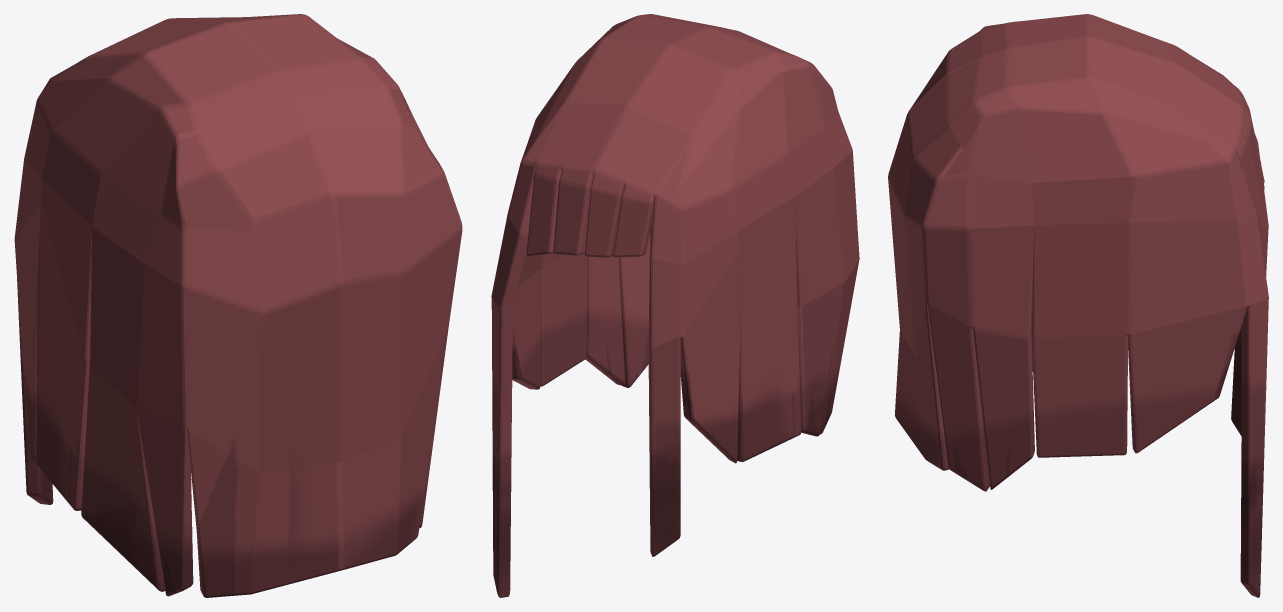
File: hair1.glb
3 views of the same model, side by side, from view 1: azimuth 30°, elevation 25°; view 2: azimuth 150°, elevation 25°; view 3: azimuth 270°, elevation 25° (orthographic). The views are drawn at different scales.
Parts seen in each view (by area): view 1: Cube.001; view 2: Cube.001; view 3: Cube.001.
Part boxes in pixels (<box>): Cube.001: <box>14,14,462,597</box>; Cube.001: <box>491,14,859,597</box>; Cube.001: <box>888,14,1268,597</box>.
Size of the model in its own units: 0.1625 by 0.3212 by 0.2134.
1 material, 1 textured.
